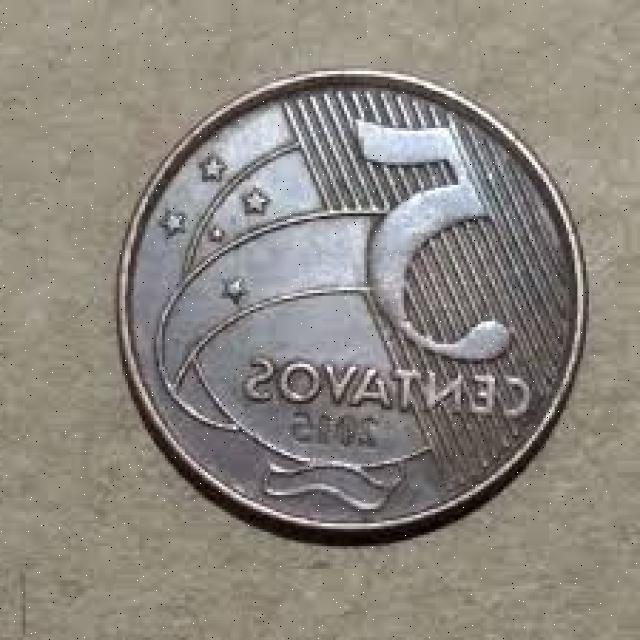5 cent: (113, 74, 581, 536)
